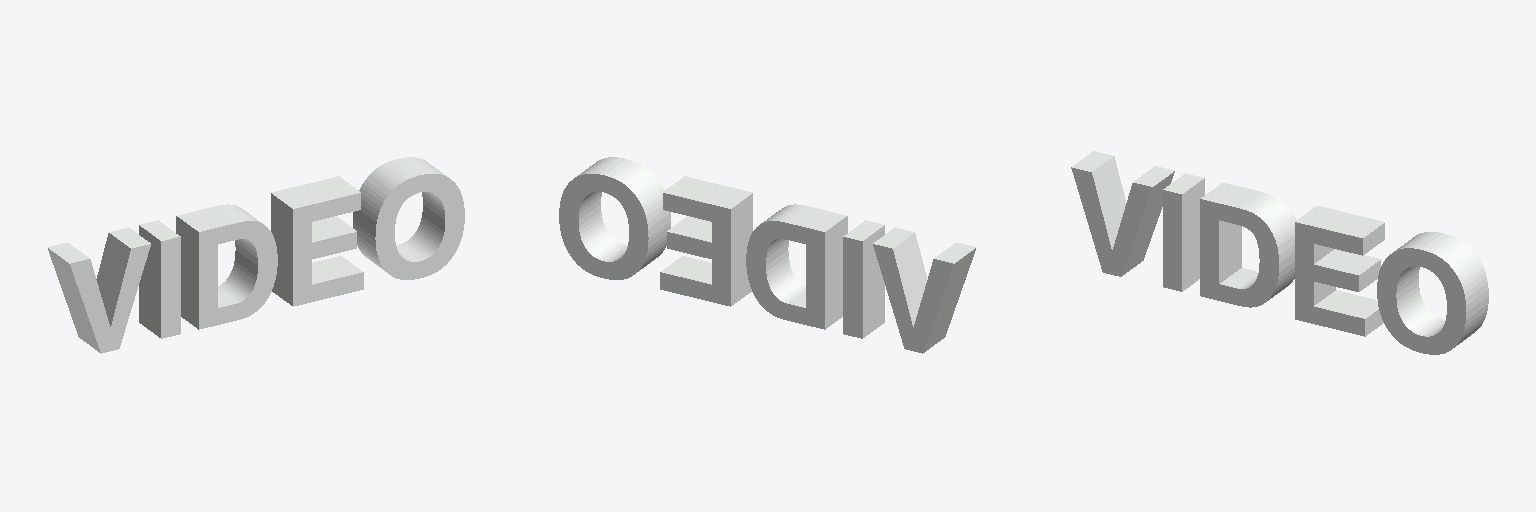
3 renders of one model, left to right at view 1: azimuth 30°, elevation 25°; view 2: azimuth 150°, elevation 25°; view 3: azimuth 330°, elevation 25°, orthographic.
Visible parts, largest first — view 1: Extrude; view 2: Extrude; view 3: Extrude.
Boxes of the visible parts, <box> form: Extrude: <box>47,157,464,353</box>; Extrude: <box>559,157,976,353</box>; Extrude: <box>1071,151,1488,354</box>.
Bounding box in the file's own units: 3.05 × 0.7617 × 0.3.